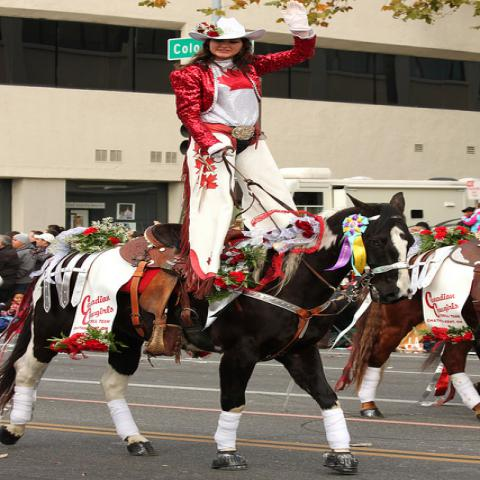truck: (279, 167, 479, 228)
